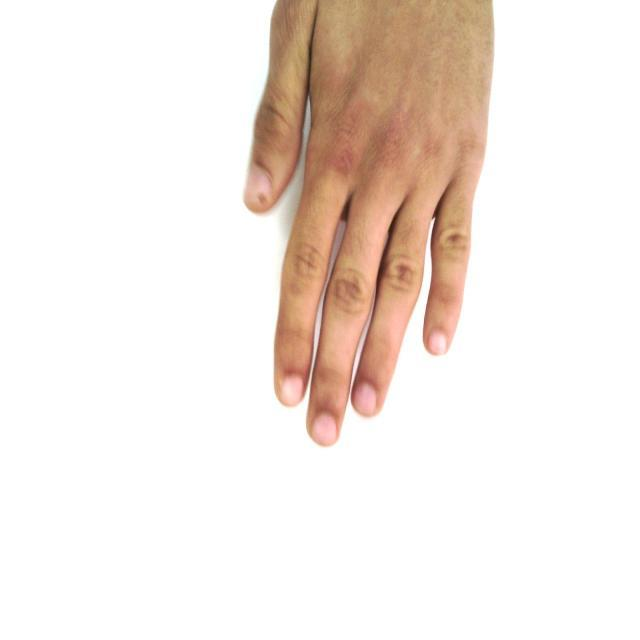Fingernail: (246, 167, 271, 202), (311, 415, 336, 445), (355, 384, 377, 414), (282, 377, 303, 404), (430, 331, 447, 355)
